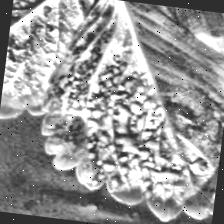Angular Leafspot: (28, 0, 224, 224), (0, 0, 101, 130), (98, 0, 224, 84)
